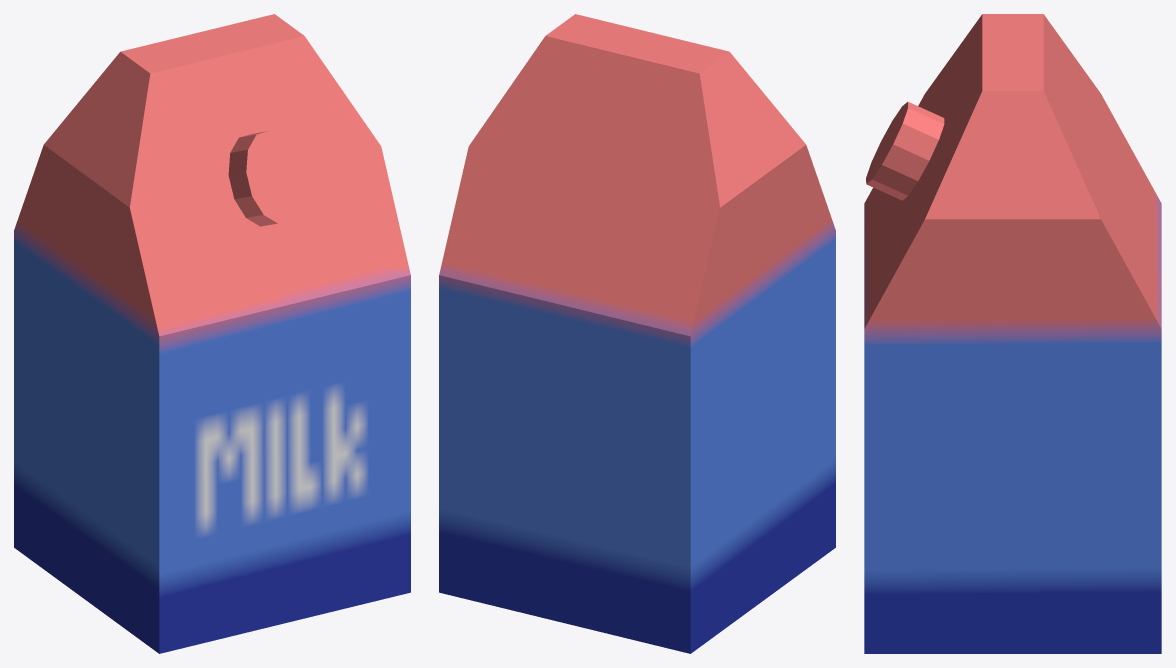
The model's file is Milk.obj.
The picture shows the model from 3 angles, left to right: view 1: azimuth 30°, elevation 25°; view 2: azimuth 150°, elevation 25°; view 3: azimuth 270°, elevation 25°; orthographic projection. The views are drawn at different scales.
Parts seen in each view (by area): view 1: Milk; view 2: Milk; view 3: Milk.
Boxes of the visible parts, left/top/right/bottom form: Milk: left=14, top=14, right=410, bottom=653; Milk: left=439, top=14, right=835, bottom=653; Milk: left=864, top=14, right=1161, bottom=653.
Size of the model in its own units: 0.87 by 1.74 by 0.87.
